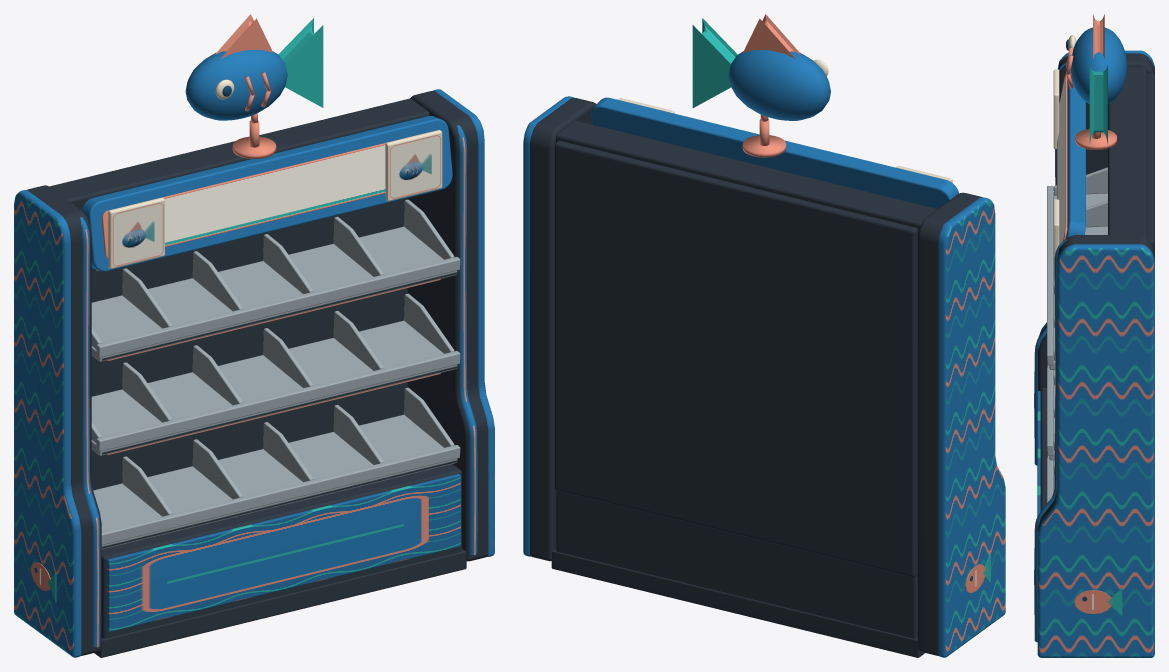
Rendered from TH_OCEAN.fbx.
The picture shows the model from 3 angles, left to right: view 1: azimuth 30°, elevation 25°; view 2: azimuth 150°, elevation 25°; view 3: azimuth 270°, elevation 25°; orthographic projection. The views are drawn at different scales.
Parts seen in each view (by area): view 1: BaseFrontInset, Left_PaintedPanel, BackPanel.001, Right_StructuralWall, Tray_02, Tray_01, Tray_03, HeaderFace, HeaderBorder, TopCrossRail, Left_StructuralWall, ClosedSolidBase (+35 smaller); view 2: BackPanel.001, Left_PaintedPanel, ClosedSolidBase, Right_StructuralWall, HeaderBorder, Left_StructuralWall, TopCrossRail, LowerPlinth, Reef fish, Right_PaintedPanel, Fishtail, Dorsal fin (+1 smaller); view 3: Right_PaintedPanel, TopCrossRail, Reef fish, HeaderBorder, Left_StructuralWall, HeaderFace, RightHousing, BackPanel.001, FrontLip_01, Fishtail, Right_StructuralWall, ClosedSolidBase (+14 smaller).
Boxes of the visible parts, bbox=[...] form: BaseFrontInset: bbox=[107, 473, 460, 631]; Left_PaintedPanel: bbox=[14, 190, 81, 657]; BackPanel.001: bbox=[91, 198, 407, 490]; Right_StructuralWall: bbox=[407, 91, 488, 561]; Tray_02: bbox=[91, 320, 457, 455]; Tray_01: bbox=[91, 226, 457, 361]; Tray_03: bbox=[93, 414, 457, 549]; HeaderFace: bbox=[102, 132, 429, 258]; HeaderBorder: bbox=[82, 116, 452, 271]; TopCrossRail: bbox=[49, 98, 429, 210]; Left_StructuralWall: bbox=[27, 185, 101, 655]; ClosedSolidBase: bbox=[101, 464, 461, 638]; BackPanel.001: bbox=[555, 141, 917, 576]; Left_PaintedPanel: bbox=[938, 197, 1005, 657]; ClosedSolidBase: bbox=[556, 490, 917, 638]; Right_StructuralWall: bbox=[530, 98, 596, 561]; HeaderBorder: bbox=[591, 97, 958, 208]; Left_StructuralWall: bbox=[917, 192, 982, 655]; TopCrossRail: bbox=[556, 120, 937, 235]; LowerPlinth: bbox=[551, 549, 924, 657]; Reef fish: bbox=[728, 50, 830, 120]; Right_PaintedPanel: bbox=[523, 96, 574, 556]; Fishtail: bbox=[692, 18, 737, 107]; Dorsal fin: bbox=[743, 14, 801, 58]; Right_PaintedPanel: bbox=[1037, 244, 1154, 657]; TopCrossRail: bbox=[1108, 67, 1146, 237]; Reef fish: bbox=[1071, 27, 1127, 103]; HeaderBorder: bbox=[1066, 80, 1085, 238]; Left_StructuralWall: bbox=[1037, 53, 1154, 390]; HeaderFace: bbox=[1057, 74, 1067, 244]; RightHousing: bbox=[1034, 239, 1067, 642]; BackPanel.001: bbox=[1147, 73, 1154, 250]; FrontLip_01: bbox=[1047, 185, 1053, 365]; Fishtail: bbox=[1089, 65, 1107, 144]; Right_StructuralWall: bbox=[1037, 235, 1154, 532]; ClosedSolidBase: bbox=[1040, 387, 1046, 511].
Size of the model in its own units: 3.62 by 4.68 by 0.9273.
